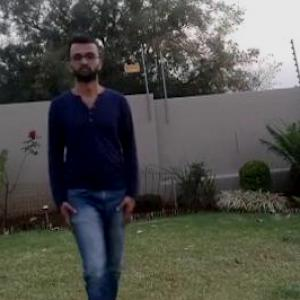follow: (53, 45, 139, 299)
